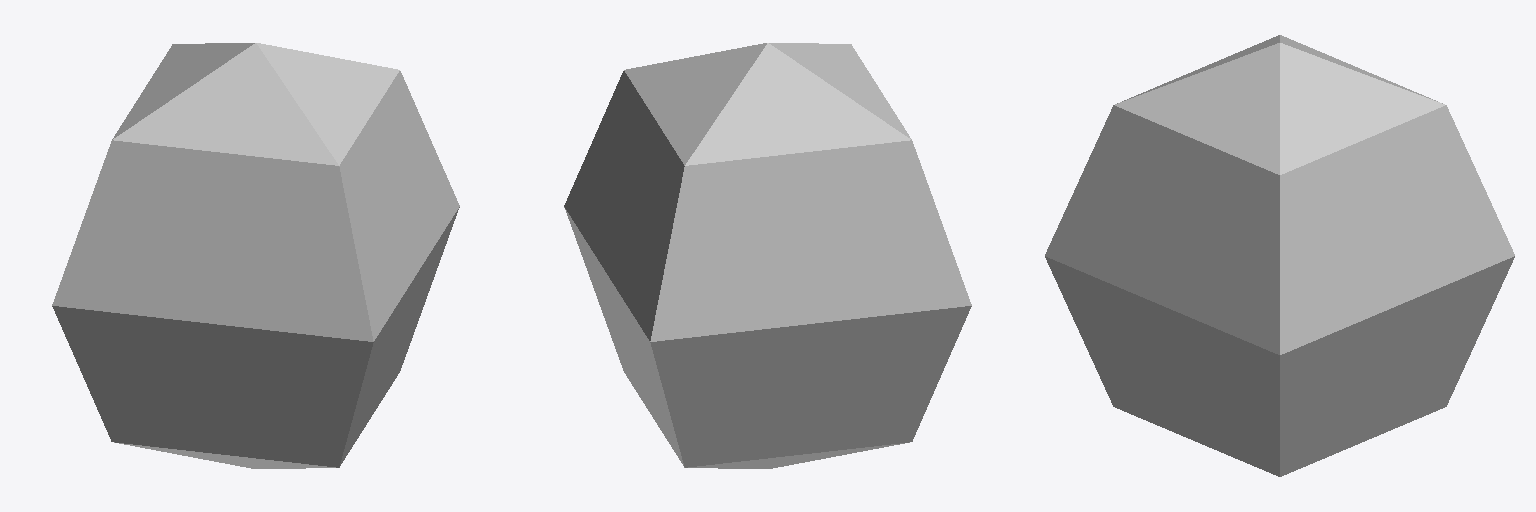
Rendered from earth2.obj.
The picture shows the model from 3 angles: view 1: azimuth 30°, elevation 25°; view 2: azimuth 150°, elevation 25°; view 3: azimuth 270°, elevation 25°; orthographic projection.
Bounding box in the file's own units: 2 × 2 × 2.